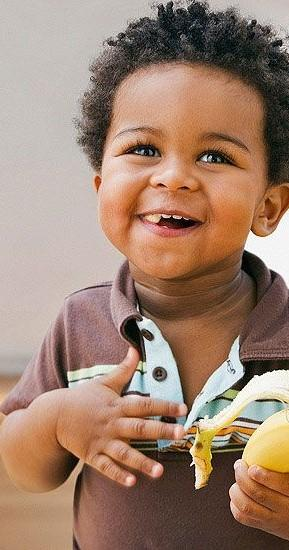Healthy: (81, 36, 289, 295)
